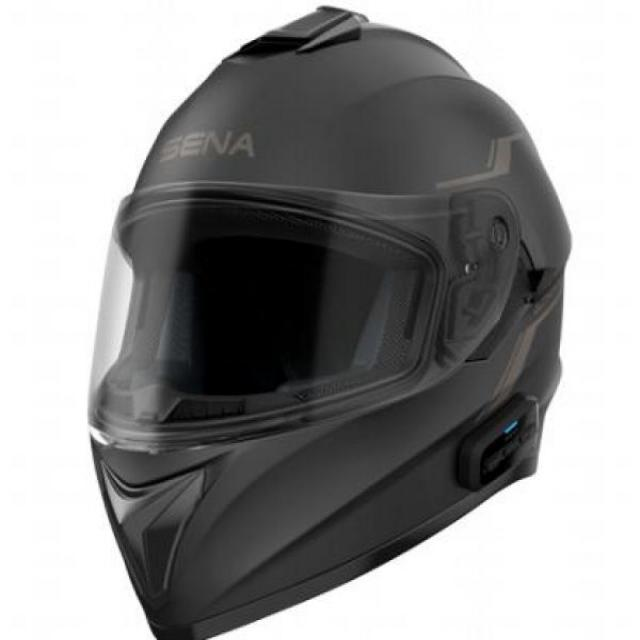Helmet: (111, 8, 565, 628)
